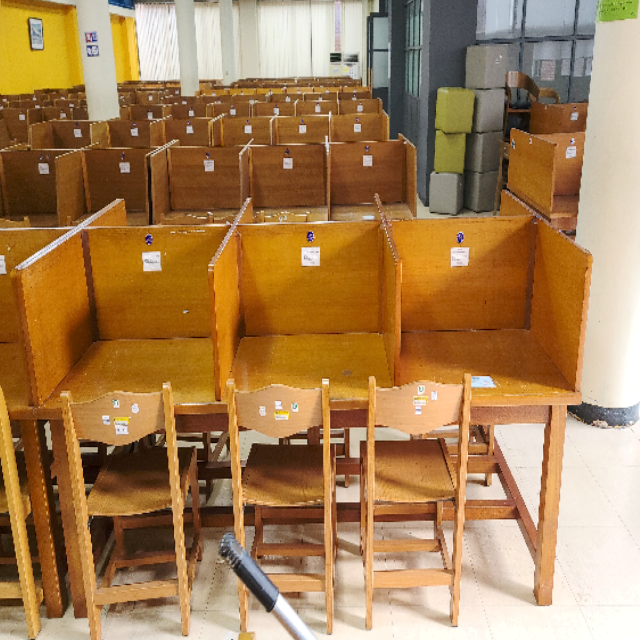empty: (404, 205, 582, 495), (21, 205, 216, 468), (225, 202, 395, 497)
